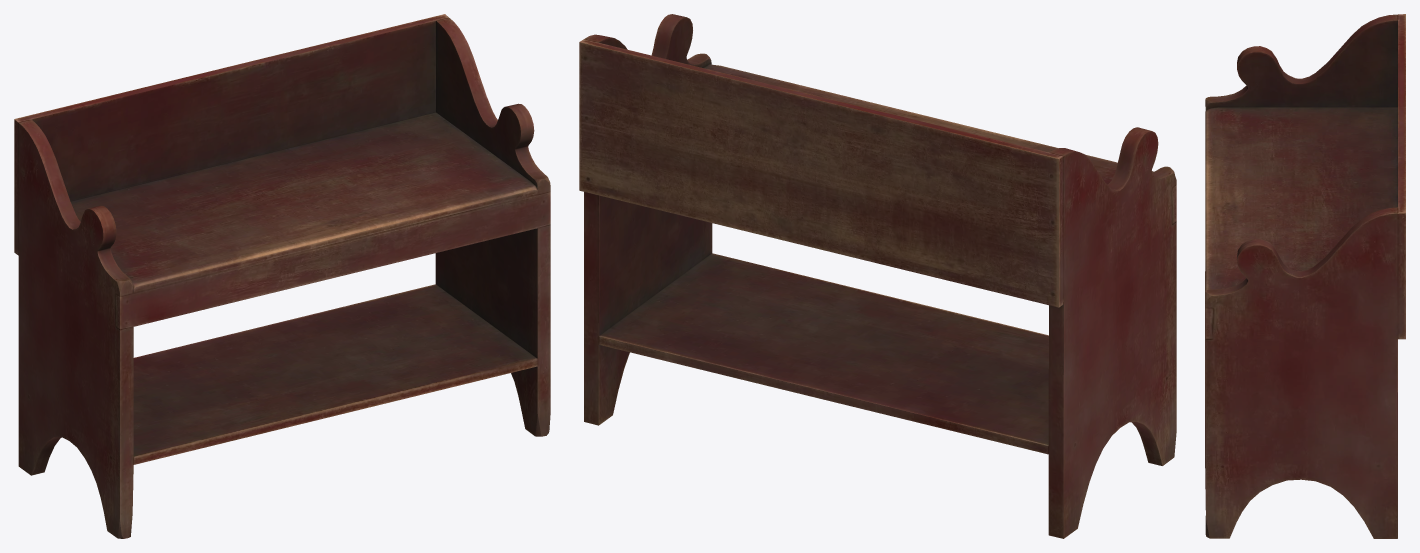
The model's file is bench.glb.
The picture shows the model from 3 angles, left to right: view 1: azimuth 30°, elevation 25°; view 2: azimuth 150°, elevation 25°; view 3: azimuth 270°, elevation 25°; orthographic projection. The views are drawn at different scales.
Visible parts, largest first — view 1: painted_wooden_bench; view 2: painted_wooden_bench; view 3: painted_wooden_bench.
Boxes of the visible parts, <box> form: painted_wooden_bench: <box>14,14,550,538</box>; painted_wooden_bench: <box>579,14,1176,538</box>; painted_wooden_bench: <box>1205,14,1405,538</box>.
Bounding box in the file's own units: 1.16 × 0.8893 × 0.4965.
1 material, 1 textured.
